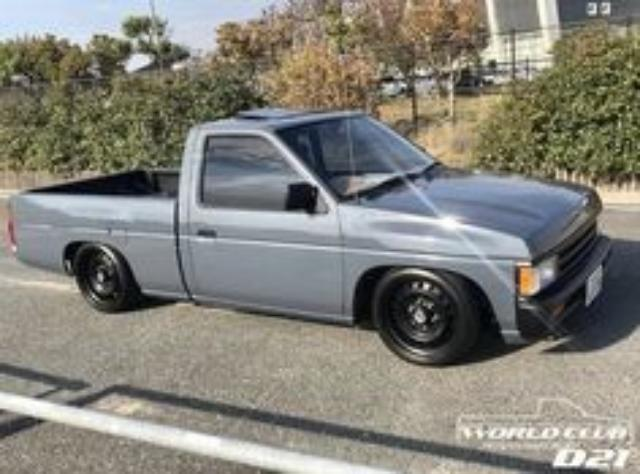pickup-truck: (3, 107, 613, 365)
